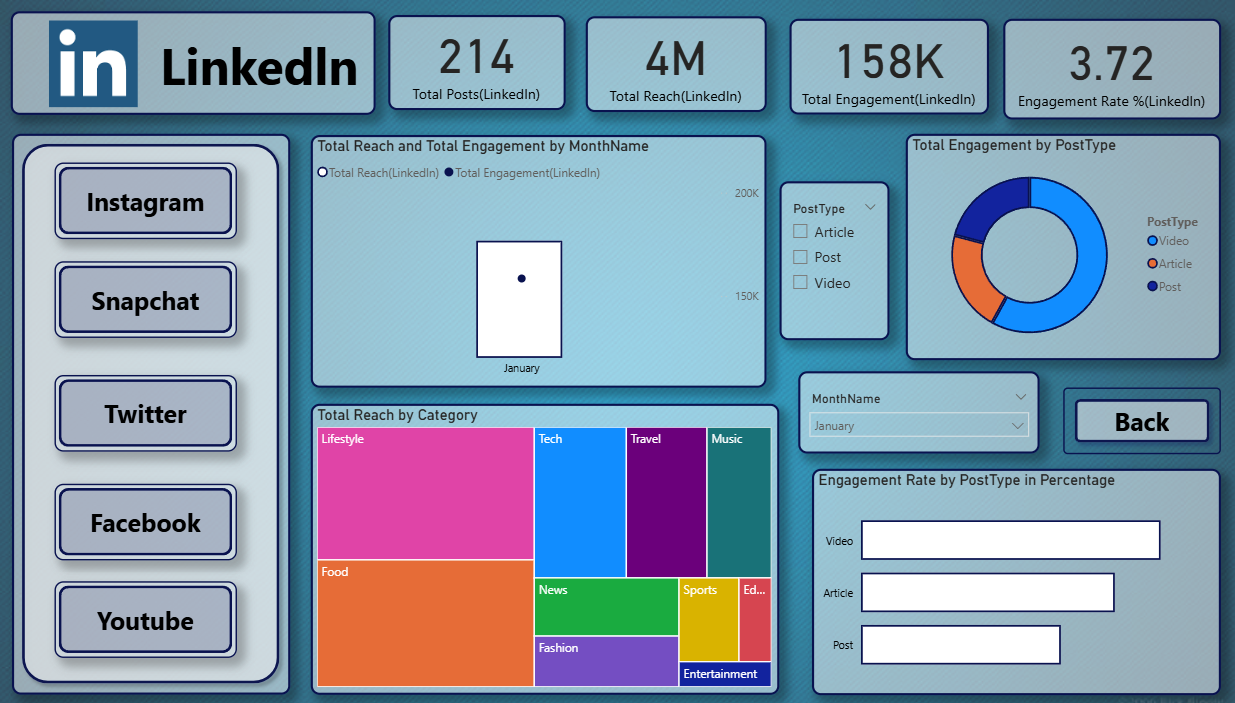

Layout of this report page (visuals, bound fields, positions):
{"tool":"powerbi","page":{"name":"Linkedln","canvas":[1400,800],"ordinal":6},"visuals":[{"type":"textbox","box":[15.7,12.9,411.4,117.1],"z":0},{"type":"image","box":[28.6,18.6,160,107.1],"z":1000},{"type":"card","fields":{"Values":["Linkedln_Data.Engagement Rate %(Linkedln)"]},"box":[1133.3,20.8,245.8,113.9],"z":2000},{"type":"card","fields":{"Values":["Linkedln_Data.Total Engagement(Linkedln)"]},"box":[893.1,20.8,225,108.3],"z":3000},{"type":"card","fields":{"Values":["Linkedln_Data.Total Posts(Linkedln)"]},"box":[440.3,16.7,200,106.9],"z":4000},{"type":"card","fields":{"Values":["Linkedln_Data.Total Reach(Linkedln)"]},"box":[663.9,18.1,204.2,108.3],"z":5000},{"type":"lineStackedColumnComboChart","title":"Total Reach and Total Engagement by MonthName","fields":{"Category":["Linkedln_Data.MonthName"],"Y":["Linkedln_Data.Total Reach(Linkedln)"],"Y2":["Linkedln_Data.Total Engagement(Linkedln)"]},"box":[354.2,152.8,513.9,284.7],"z":6000},{"type":"donutChart","title":"Total Engagement by PostType","fields":{"Y":["Linkedln_Data.Total Engagement(Linkedln)"],"Category":["Linkedln_Data.PostType"]},"box":[1023.6,151.4,355.6,255.6],"z":7000},{"type":"treemap","title":"Total Reach by Category","fields":{"Group":["Linkedln_Data.Category"],"Values":["Linkedln_Data.Total Reach(Linkedln)"]},"box":[354.2,455.6,527.8,327.8],"z":8000},{"type":"barChart","title":"Engagement Rate  by PostType in  Percentage","fields":{"Category":["Linkedln_Data.PostType"],"Y":["Linkedln_Data.Engagement Rate %(Linkedln)"]},"box":[918.1,527.8,461.1,255.6],"z":9000},{"type":"slicer","fields":{"Values":["Linkedln_Data.MonthName"]},"box":[902.8,418.1,272.2,93.1],"z":10000},{"type":"slicer","fields":{"Values":["Linkedln_Data.PostType"]},"box":[881.9,204.2,123.6,179.2],"z":11000},{"type":"actionButton","box":[1201.4,436.1,177.8,75],"z":12000},{"type":"shape","box":[16.7,151.4,313.9,631.9],"z":13000},{"type":"actionButton","box":[65.3,183.3,205.6,86.1],"z":14000},{"type":"actionButton","box":[65.3,422.2,205.6,86.1],"z":15000},{"type":"actionButton","box":[65.3,544.4,205.6,86.1],"z":16000},{"type":"actionButton","box":[65.3,655.6,205.6,86.1],"z":17000},{"type":"actionButton","box":[65.3,294.4,205.6,86.1],"z":18000}]}

Visuals, with their boxes in screenshot pixels (x1, y1, x2, y2), scaled from the page's 1400x800 canvas onto the 1235x703 screenshot:
textbox: (left=14, top=11, right=377, bottom=114)
image: (left=25, top=16, right=166, bottom=110)
card - Linkedln_Data.Engagement Rate %(Linkedln): (left=1000, top=18, right=1217, bottom=118)
card - Linkedln_Data.Total Engagement(Linkedln): (left=788, top=18, right=986, bottom=113)
card - Linkedln_Data.Total Posts(Linkedln): (left=388, top=15, right=565, bottom=109)
card - Linkedln_Data.Total Reach(Linkedln): (left=586, top=16, right=766, bottom=111)
"Total Reach and Total Engagement by MonthName" lineStackedColumnComboChart: (left=312, top=134, right=766, bottom=384)
"Total Engagement by PostType" donutChart: (left=903, top=133, right=1217, bottom=358)
"Total Reach by Category" treemap: (left=312, top=400, right=778, bottom=688)
"Engagement Rate  by PostType in  Percentage" barChart: (left=810, top=464, right=1217, bottom=688)
slicer - Linkedln_Data.MonthName: (left=796, top=367, right=1037, bottom=449)
slicer - Linkedln_Data.PostType: (left=778, top=179, right=887, bottom=337)
actionButton: (left=1060, top=383, right=1217, bottom=449)
shape: (left=15, top=133, right=292, bottom=688)
actionButton: (left=58, top=161, right=239, bottom=237)
actionButton: (left=58, top=371, right=239, bottom=447)
actionButton: (left=58, top=478, right=239, bottom=554)
actionButton: (left=58, top=576, right=239, bottom=652)
actionButton: (left=58, top=259, right=239, bottom=334)
